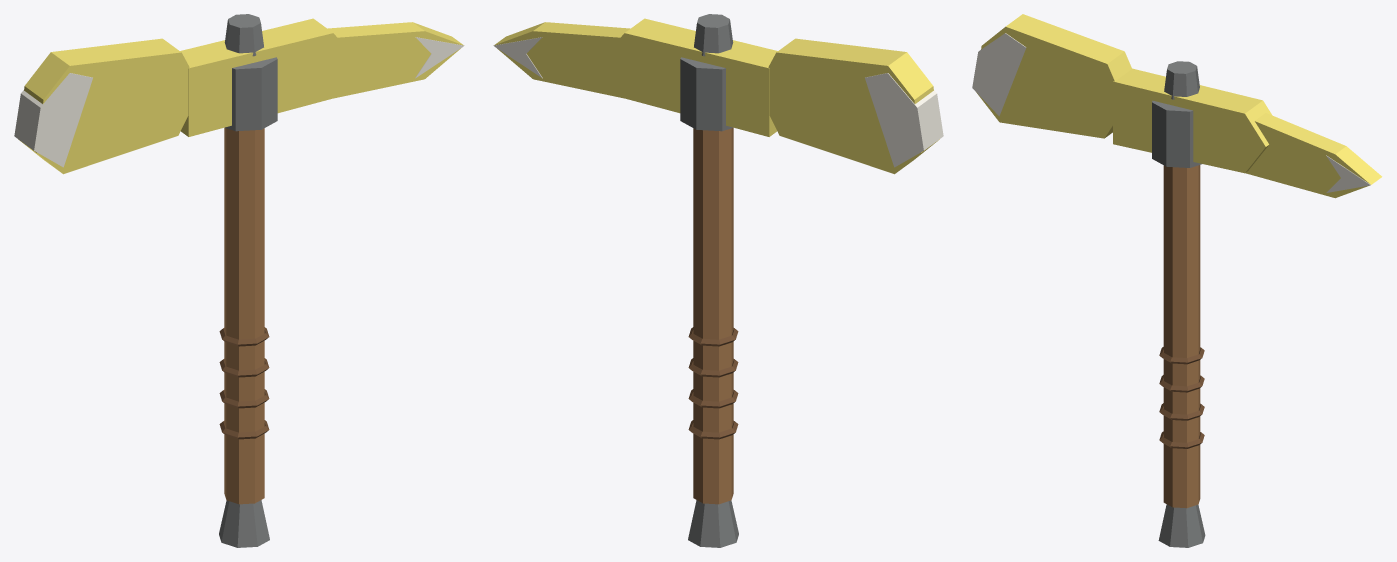
Rendered from t7_hammer.glb.
3 renders of one model, left to right at view 1: azimuth 30°, elevation 25°; view 2: azimuth 150°, elevation 25°; view 3: azimuth 330°, elevation 25°, orthographic. The views are drawn at different scales.
Visible parts, largest first — view 1: WoodHandle, HammerHead, HeadCore, ChiselPoint, HammerFace, HeadSocket, BottomPommel, TopCap, ChiselTip; view 2: WoodHandle, HammerHead, HeadCore, ChiselPoint, HammerFace, HeadSocket, BottomPommel, TopCap, ChiselTip; view 3: WoodHandle, HammerHead, HeadCore, ChiselPoint, HammerFace, HeadSocket, BottomPommel, TopCap, ChiselTip.
Part boxes in pixels (box(x1,y1,x2,y2)): WoodHandle: box(224, 127, 264, 504); HammerHead: box(18, 38, 189, 174); HeadCore: box(180, 18, 356, 136); ChiselPoint: box(327, 22, 463, 98); HammerFace: box(14, 73, 92, 167); HeadSocket: box(225, 57, 277, 131); BottomPommel: box(219, 500, 269, 547); TopCap: box(224, 14, 263, 56); ChiselTip: box(415, 37, 464, 78); WoodHandle: box(693, 127, 733, 504); HammerHead: box(768, 38, 939, 174); HeadCore: box(601, 18, 777, 136); ChiselPoint: box(494, 22, 630, 98); HammerFace: box(865, 73, 943, 167); HeadSocket: box(680, 57, 732, 131); BottomPommel: box(688, 500, 738, 547); TopCap: box(694, 14, 733, 56); ChiselTip: box(493, 37, 542, 78); WoodHandle: box(1163, 165, 1200, 508); HammerHead: box(976, 14, 1131, 138); HeadCore: box(1113, 68, 1272, 173); ChiselPoint: box(1245, 113, 1381, 198); HammerFace: box(972, 33, 1026, 116); HeadSocket: box(1152, 100, 1201, 167); BottomPommel: box(1158, 504, 1205, 547); TopCap: box(1164, 61, 1199, 99); ChiselTip: box(1326, 155, 1382, 192).
Size of the model in its own units: 1.32 by 1.52 by 0.18.
